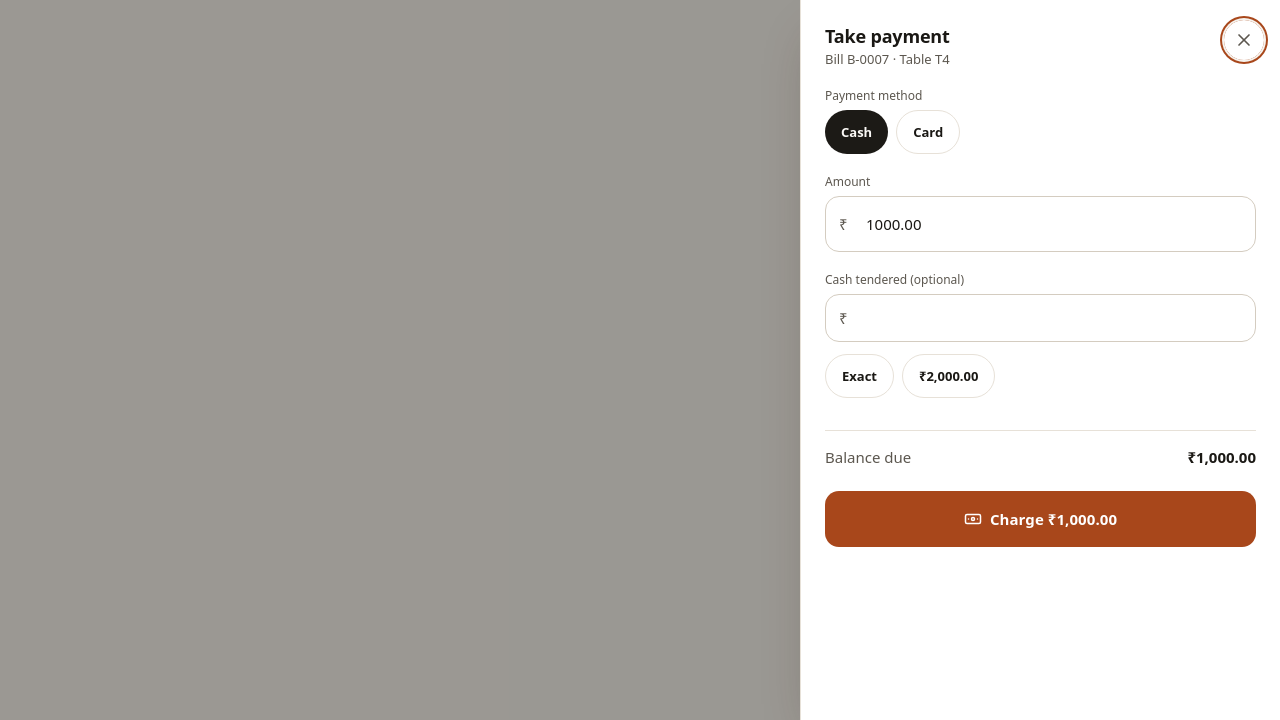
Scenario: PaymentDrawer › refuses zero and more than is due
Replace the text in the field labelled "Amount" with "0" at (1040, 224), box [825,196,1256,252]
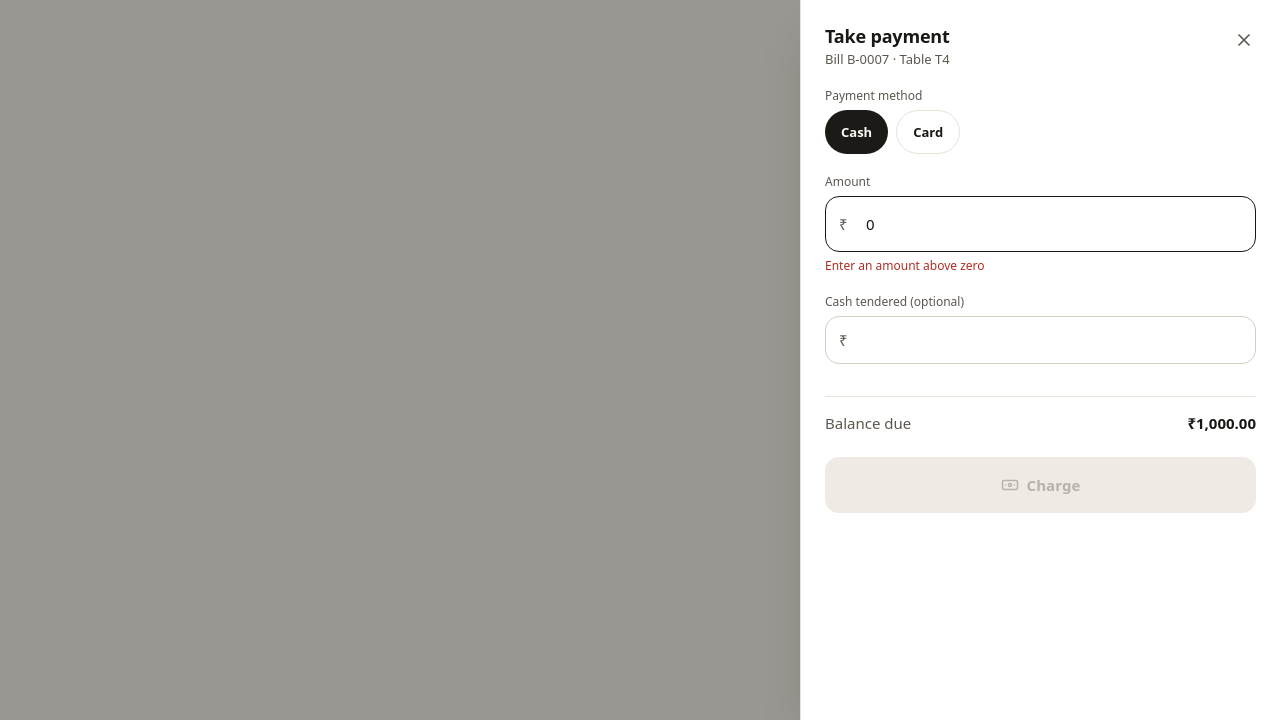
Result: the button "Charge" is disabled at [825,457,1256,513]
Result: the text "Enter an amount above zero" is shown at [825,257,984,274]
Replace the text in the field labelled "Amount" with "1000.01" at (1040, 224), box [825,196,1256,252]
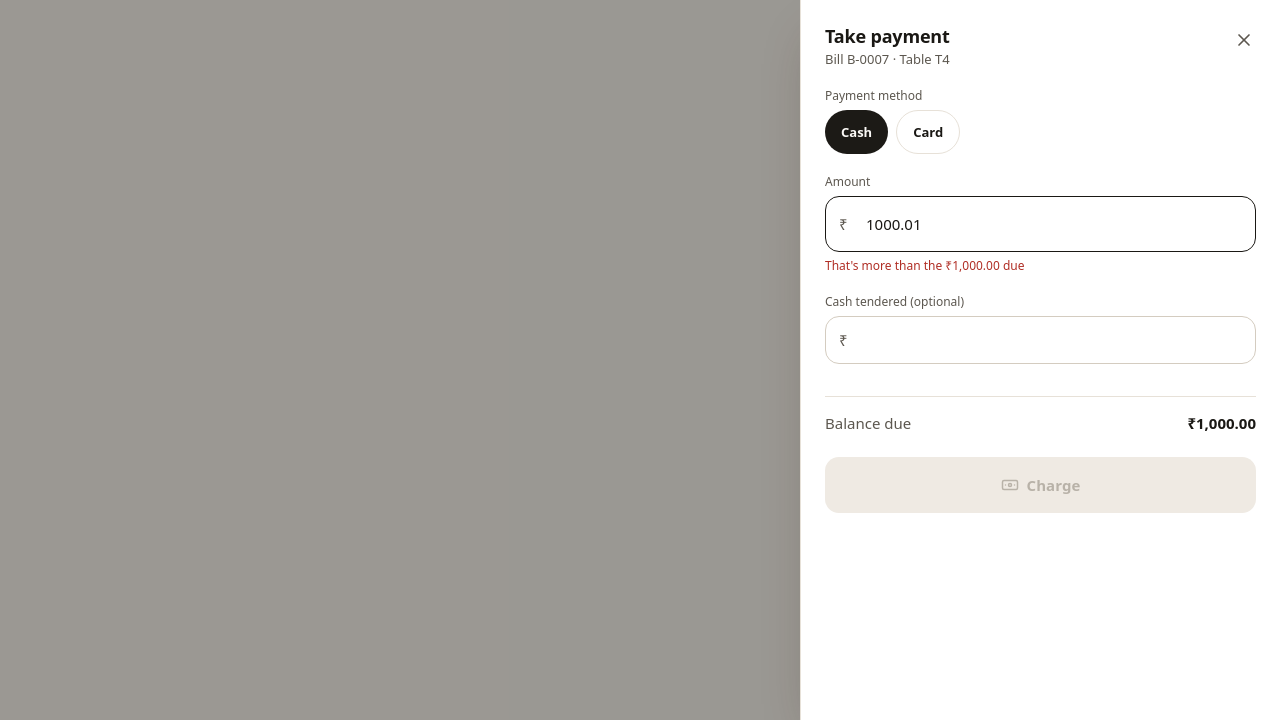
Result: the button "Charge" is disabled at [825,457,1256,513]
Result: the text "That's more than the ₹1,000.00 due" is shown at [825,257,1024,274]
Replace the text in the field labelled "Amount" with "400" at (1040, 224), box [825,196,1256,252]
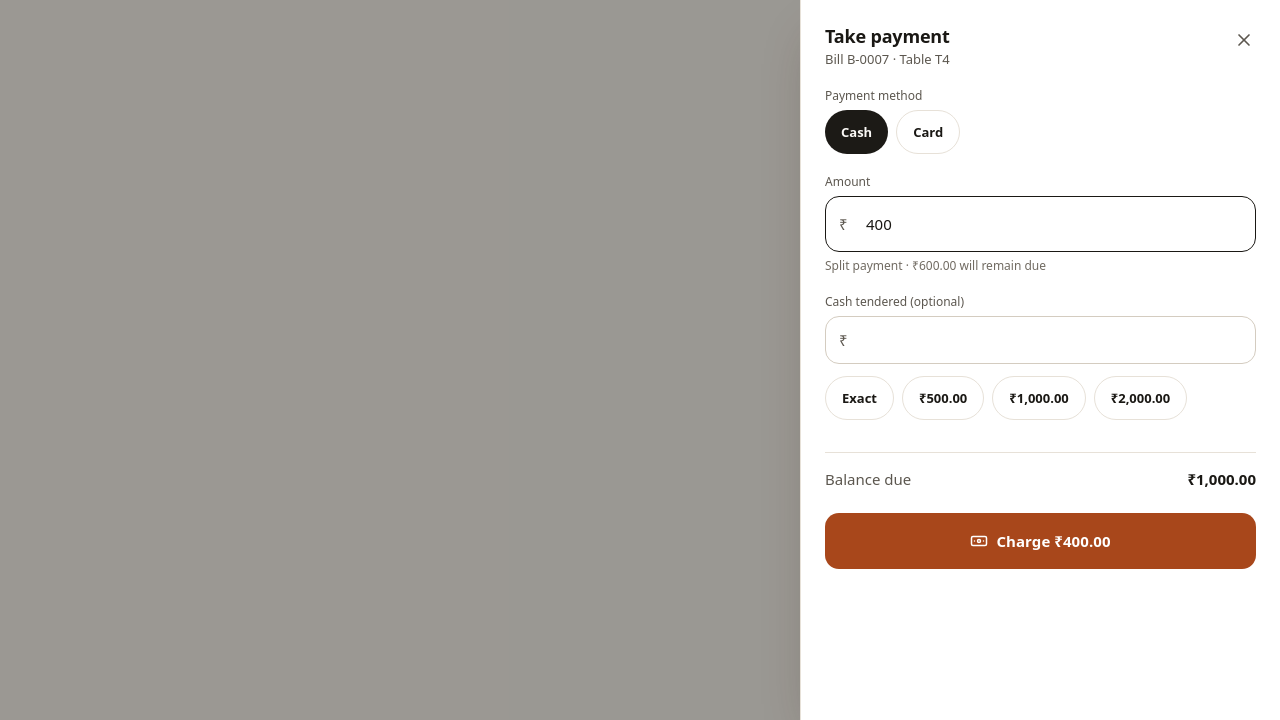
Result: the text "Split payment · ₹600.00 will remain due" is shown at [825,257,1046,274]
Result: the button "Charge ₹400.00" is enabled at [825,513,1256,569]
